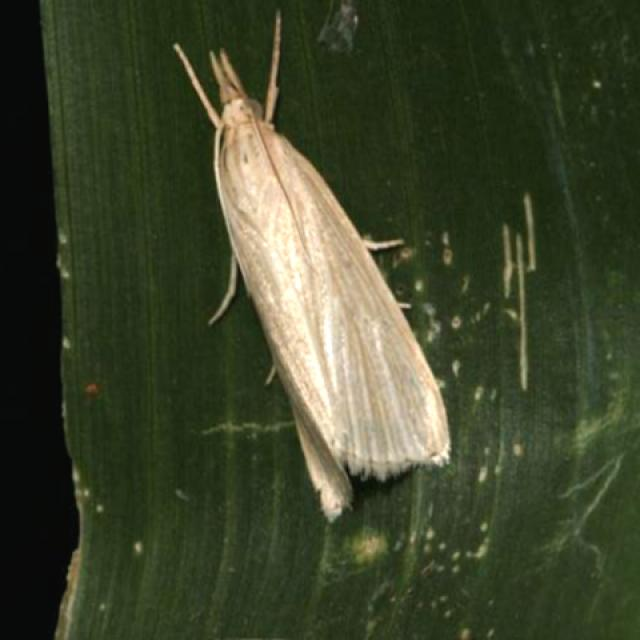cornborer-Adult-: (154, 26, 464, 523)
